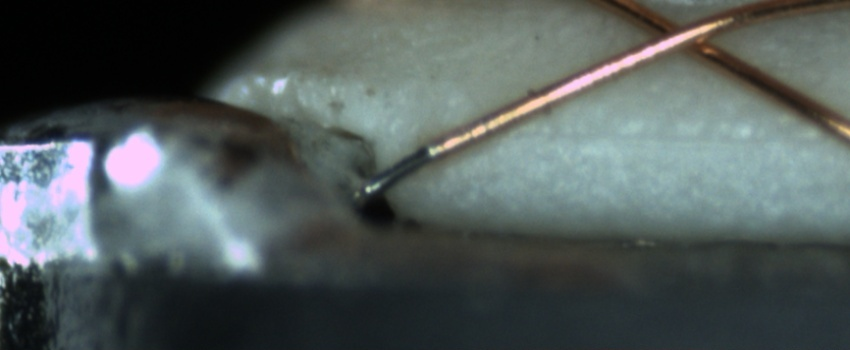CL: (628, 5, 733, 65)
DL: (524, 103, 850, 167)
TS: (365, 145, 432, 195)
TTCW: (354, 137, 462, 200)
